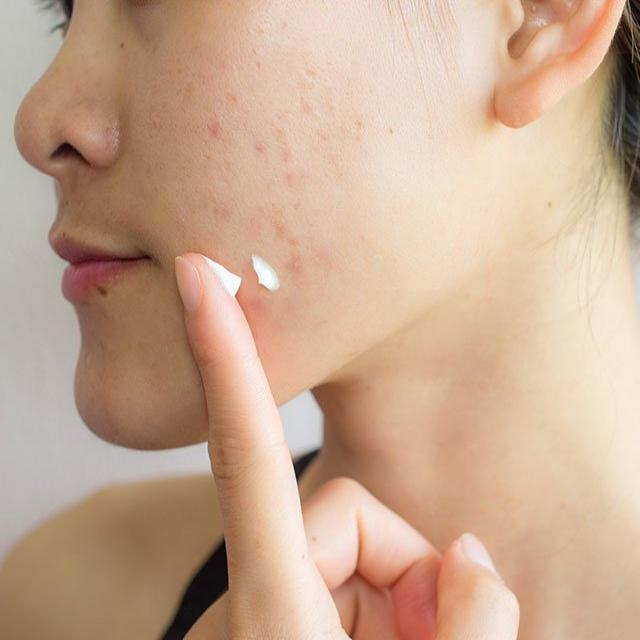Acne: (155, 10, 424, 336)
